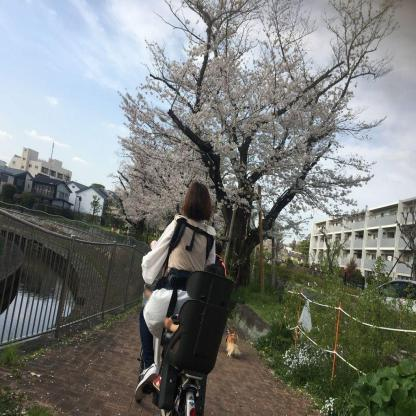Someiyoshino: (97, 0, 410, 253)
